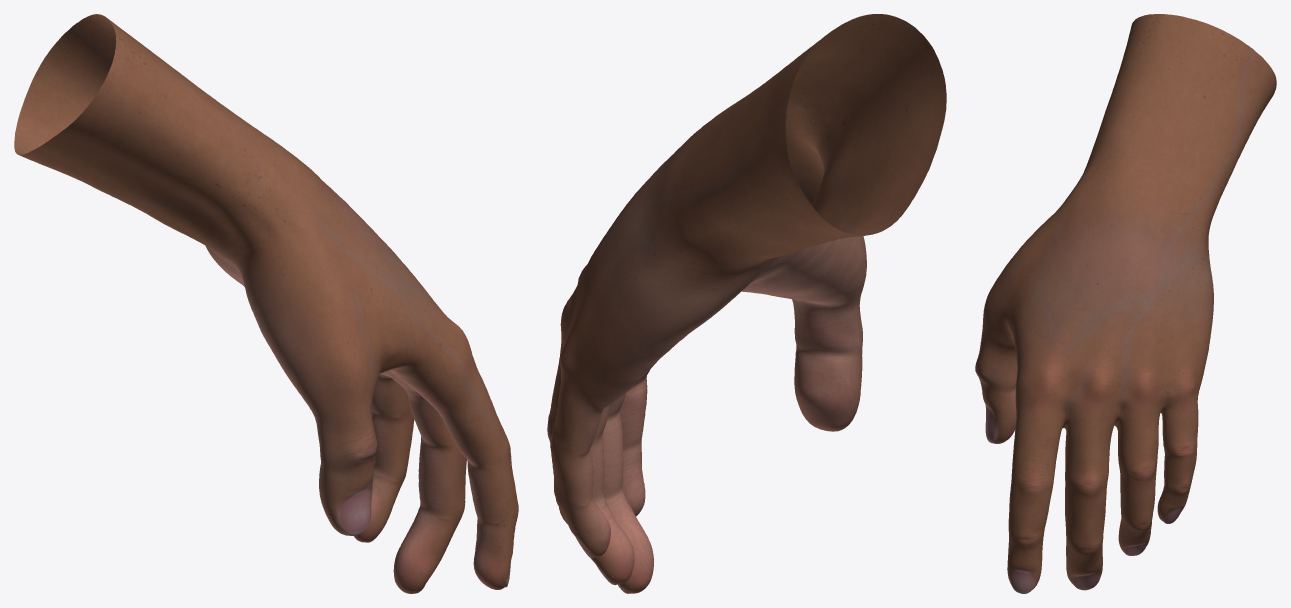
File: hand.glb
The picture shows the model from 3 angles, left to right: view 1: azimuth 30°, elevation 25°; view 2: azimuth 150°, elevation 25°; view 3: azimuth 270°, elevation 25°; orthographic projection. The views are drawn at different scales.
Visible parts, largest first — view 1: Hands_Low:Group52896; view 2: Hands_Low:Group52896; view 3: Hands_Low:Group52896.
Part boxes in pixels (x1=…): Hands_Low:Group52896: x1=14, y1=14, x2=518, y2=593; Hands_Low:Group52896: x1=547, y1=14, x2=946, y2=593; Hands_Low:Group52896: x1=975, y1=14, x2=1276, y2=593.
Bounding box in the file's own units: 1.36 × 2 × 1.14.
Materials: 1 (1 with a texture image).
